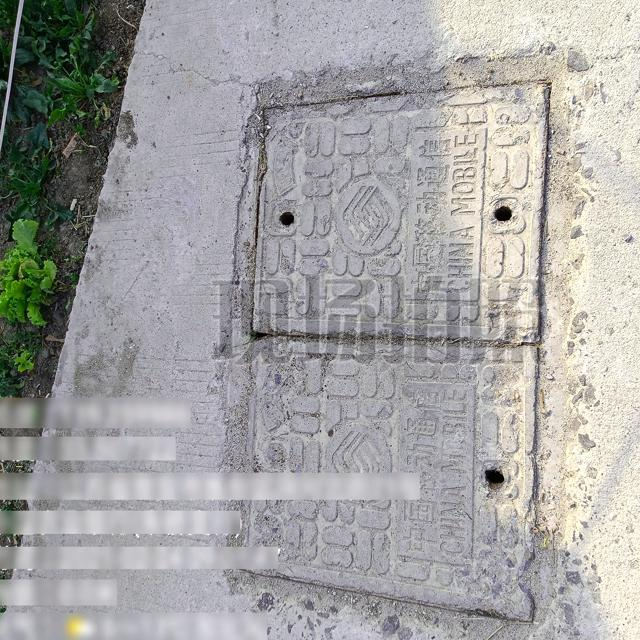good: (236, 68, 560, 639)
